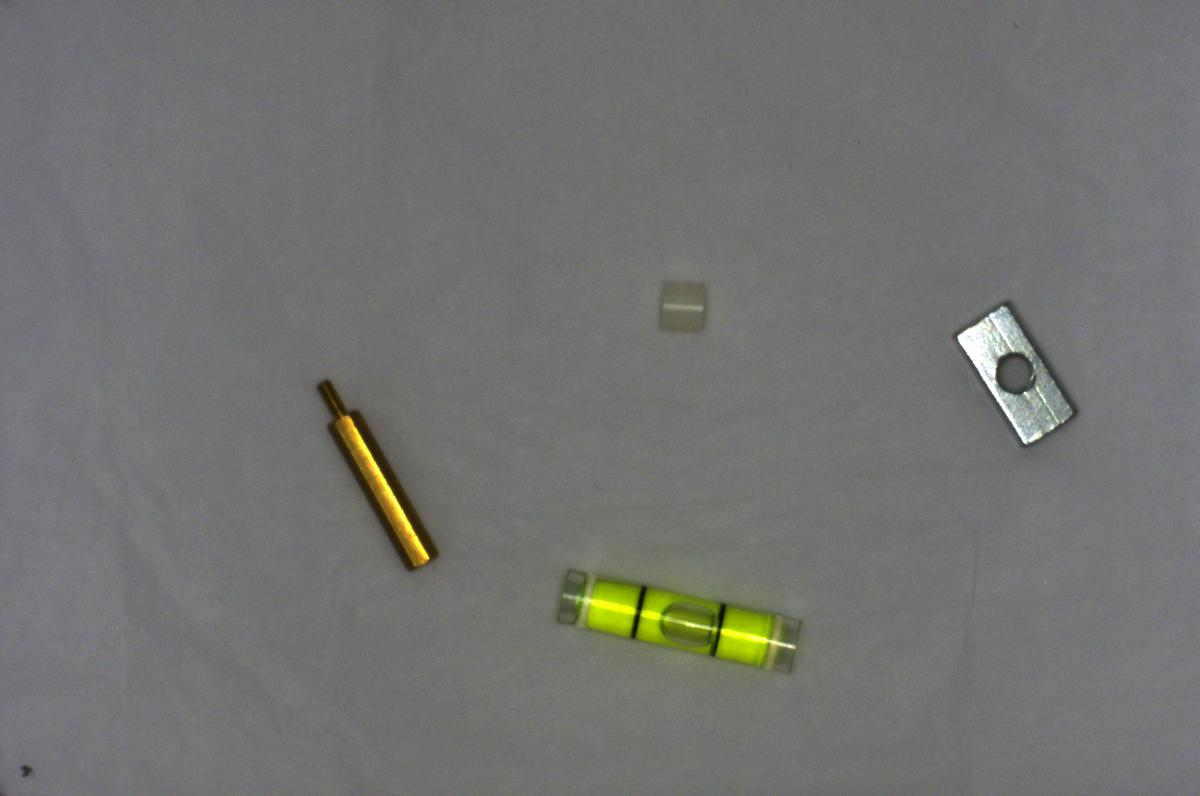Hexagon pillar: (310, 375, 434, 570)
Horizontal bubble: (540, 561, 811, 680)
Plastic cushion pillar: (640, 273, 724, 339)
Rectangular nut: (951, 299, 1078, 448)
